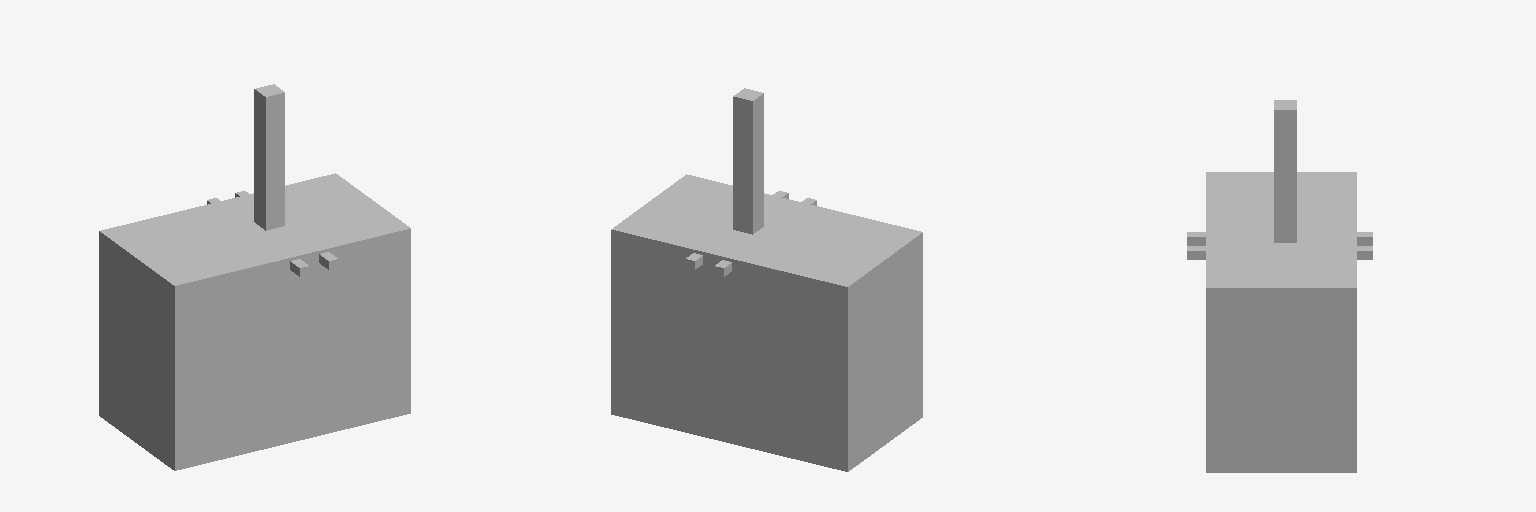
Rendered from storagecrane.obj.
The picture shows the model from 3 angles: view 1: azimuth 30°, elevation 25°; view 2: azimuth 150°, elevation 25°; view 3: azimuth 270°, elevation 25°; orthographic projection.
Parts seen in each view (by area): view 1: polySurface4, polySurface6 polySurface5, polySurface5 polySurface7; view 2: polySurface4, polySurface6 polySurface5, polySurface5 polySurface7; view 3: polySurface4, polySurface6 polySurface5, polySurface5 polySurface7.
Part boxes in pixels (x1,y1,x2,y2): polySurface4: (99,173,410,470); polySurface6 polySurface5: (254,84,284,230); polySurface5 polySurface7: (207,191,338,276); polySurface4: (611,174,922,471); polySurface6 polySurface5: (733,88,763,234); polySurface5 polySurface7: (685,191,816,276); polySurface4: (1206,172,1356,472); polySurface6 polySurface5: (1274,100,1296,242); polySurface5 polySurface7: (1187,232,1372,259).
Bounding box in the file's own units: 6.34 × 8.15 × 4.33.